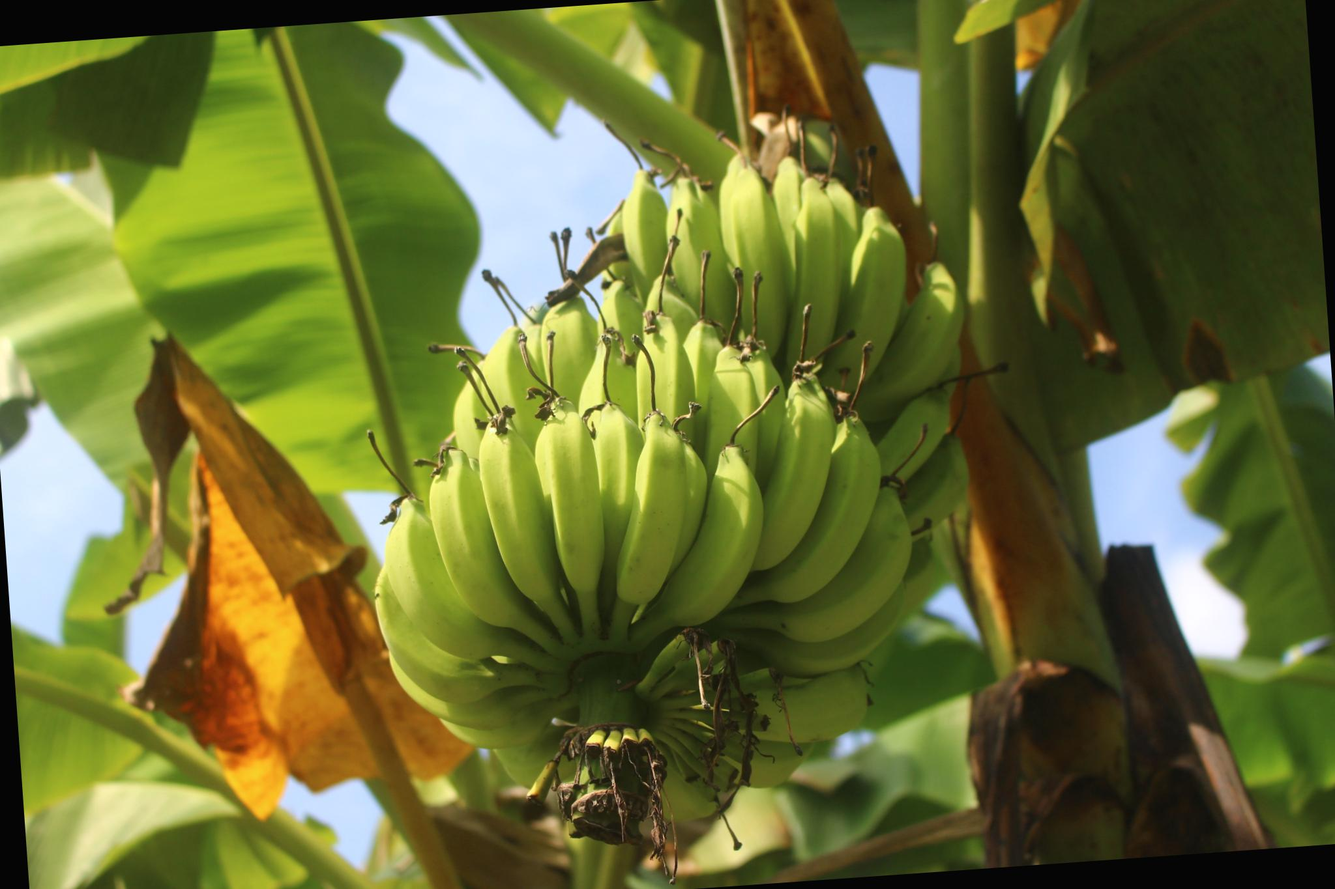Banana Unripe: (330, 263, 938, 749)
